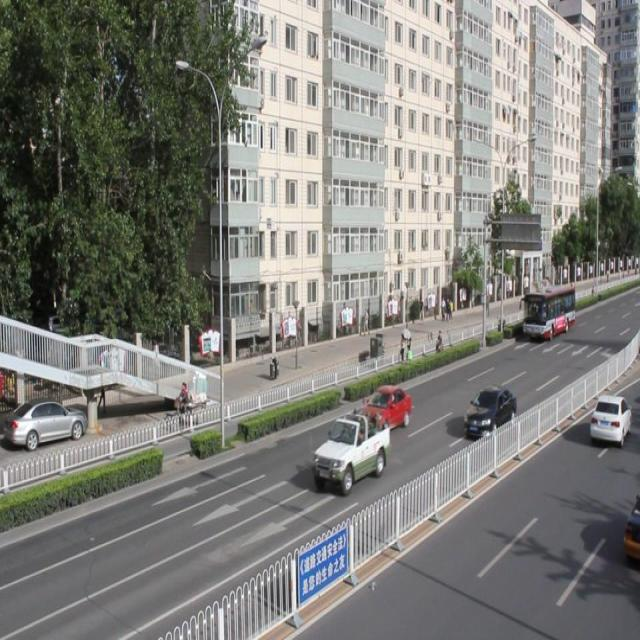BigCar: (520, 280, 582, 346)
car: (319, 414, 386, 489), (7, 393, 84, 447), (466, 388, 518, 440), (362, 379, 413, 429), (594, 391, 630, 447)
